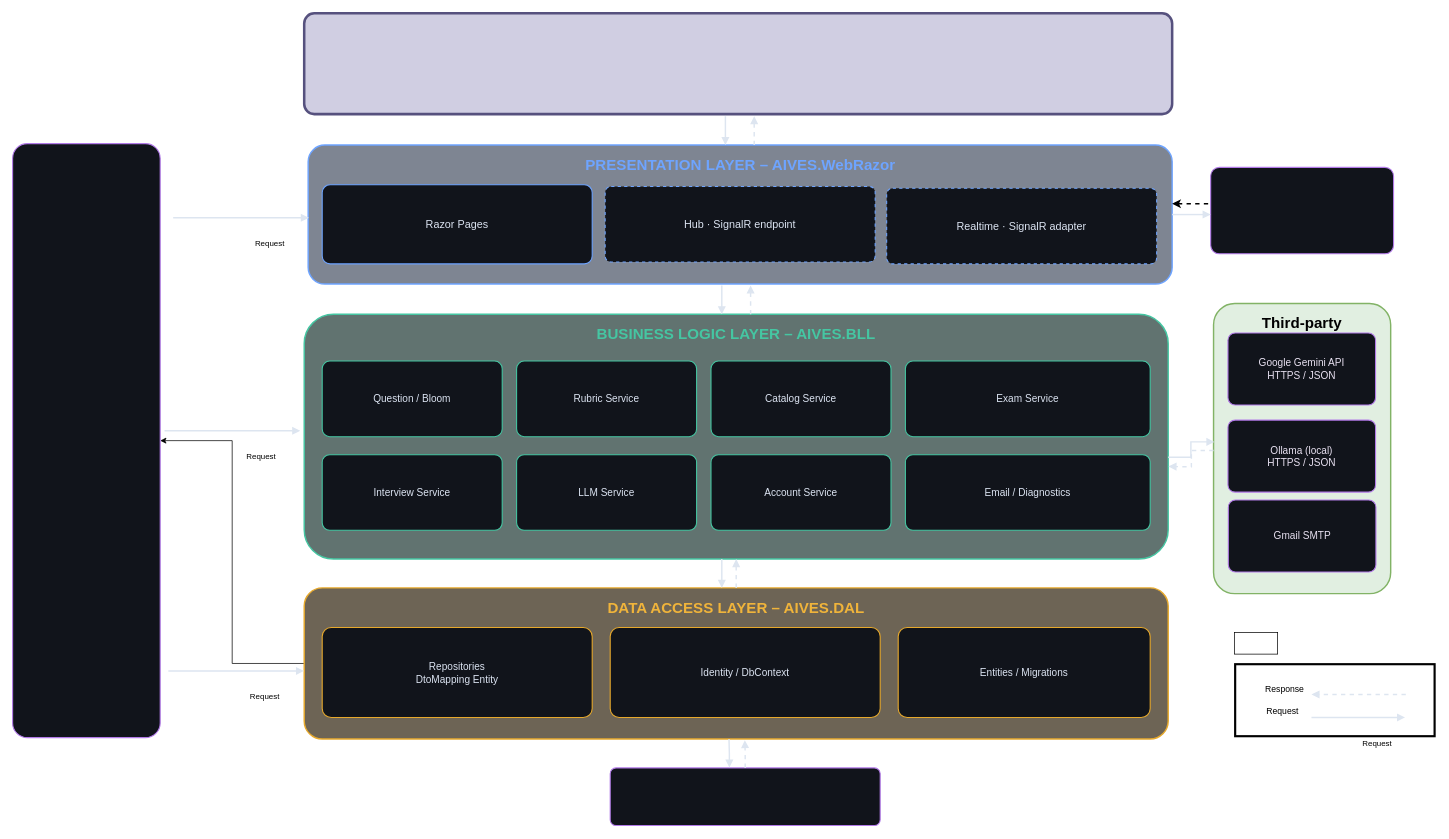
Some shapes in this 1449 by 839 pixel diagram are drawn without their labels. The shapes that lost their labels are listed below. From the top down, each one's centre as x and y in pixels, then its label:
pixel 738 63: Lecturer · Student · Admin Browser Chrome / Edge SignalR client
pixel 1302 210: Google OAuth
pixel 86 440: AIVES.DTO
pixel 1256 643: Note
pixel 744 796: SQL Server 2022
